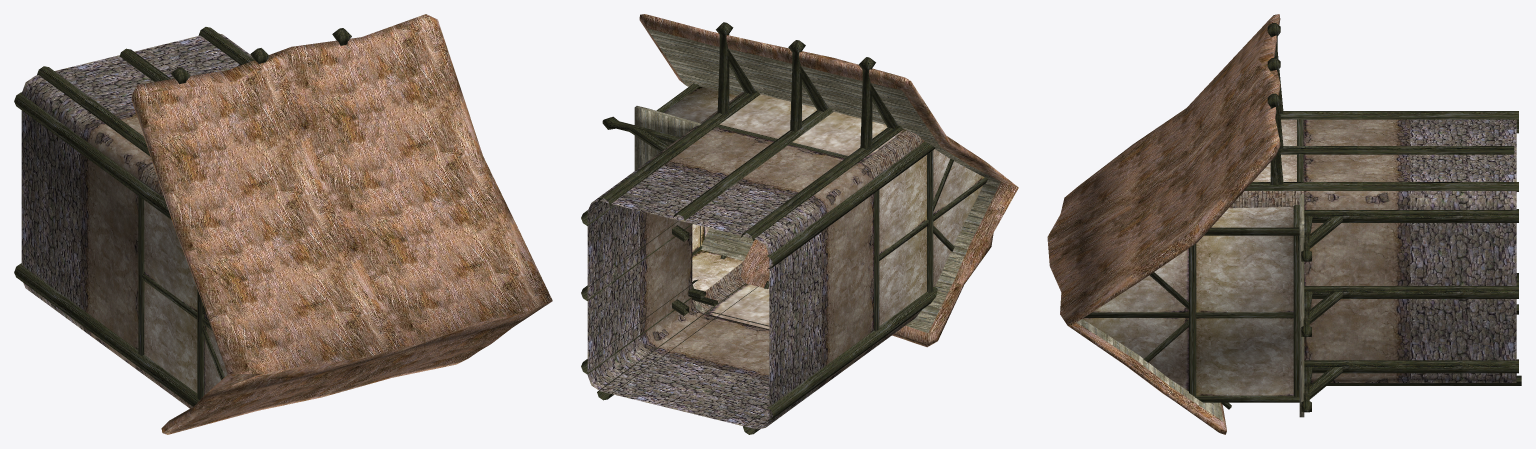
The model's file is ex_common_house_tall_02.obj.
3 views of the same model, side by side, from view 1: azimuth 30°, elevation 25°; view 2: azimuth 150°, elevation 25°; view 3: azimuth 270°, elevation 25° (orthographic). The views are drawn at different scales.
Visible parts, largest first — view 1: Tri Ex_common_house_tall_02 1, Tri Ex_common_house_tall_02 4, Tri Ex_common_house_tall_02 3, Tri Ex_common_house_tall_02 0, Tri Ex_common_house_tall_02 6, Tri Ex_common_house_tall_02 8, Tri Ex_common_house_tall_02 7, Tri Ex_common_house_tall_02 5; view 2: Tri Ex_common_house_tall_02 4, Tri Ex_common_house_tall_02 0, Tri Ex_common_house_tall_02 3, Tri Ex_common_house_tall_02 6, Tri Ex_common_house_tall_02 2, Tri Ex_common_house_tall_02 1, Tri Ex_common_house_tall_02 5, Tri Ex_common_house_tall_02 8, Tri Ex_common_house_tall_02 7; view 3: Tri Ex_common_house_tall_02 1, Tri Ex_common_house_tall_02 3, Tri Ex_common_house_tall_02 6, Tri Ex_common_house_tall_02 4, Tri Ex_common_house_tall_02 0, Tri Ex_common_house_tall_02 2, Tri Ex_common_house_tall_02 7, Tri Ex_common_house_tall_02 8, Tri Ex_common_house_tall_02 5.
Boxes of the visible parts, x1,y1,x2,y2 form: Tri Ex_common_house_tall_02 1: (131,14,552,434); Tri Ex_common_house_tall_02 4: (21,33,253,331); Tri Ex_common_house_tall_02 3: (14,27,351,406); Tri Ex_common_house_tall_02 0: (80,109,151,349); Tri Ex_common_house_tall_02 6: (140,180,227,394); Tri Ex_common_house_tall_02 8: (82,119,152,374); Tri Ex_common_house_tall_02 7: (81,126,143,179); Tri Ex_common_house_tall_02 5: (140,163,192,408); Tri Ex_common_house_tall_02 4: (587,164,821,429); Tri Ex_common_house_tall_02 0: (640,127,873,381); Tri Ex_common_house_tall_02 3: (581,22,987,434); Tri Ex_common_house_tall_02 6: (664,86,984,329); Tri Ex_common_house_tall_02 2: (634,28,1000,332); Tri Ex_common_house_tall_02 1: (639,14,1018,347); Tri Ex_common_house_tall_02 5: (692,92,924,350); Tri Ex_common_house_tall_02 8: (644,163,872,389); Tri Ex_common_house_tall_02 7: (640,125,873,346); Tri Ex_common_house_tall_02 1: (1047,14,1280,434); Tri Ex_common_house_tall_02 3: (1084,23,1521,412); Tri Ex_common_house_tall_02 6: (1082,119,1304,395); Tri Ex_common_house_tall_02 4: (1410,119,1516,382); Tri Ex_common_house_tall_02 0: (1304,119,1410,377); Tri Ex_common_house_tall_02 2: (1077,194,1304,421); Tri Ex_common_house_tall_02 7: (1304,191,1410,382); Tri Ex_common_house_tall_02 8: (1304,198,1410,208); Tri Ex_common_house_tall_02 5: (1229,191,1304,208).
Bounding box in the file's own units: 855 × 815 × 1143.
9 materials, 9 textured.
